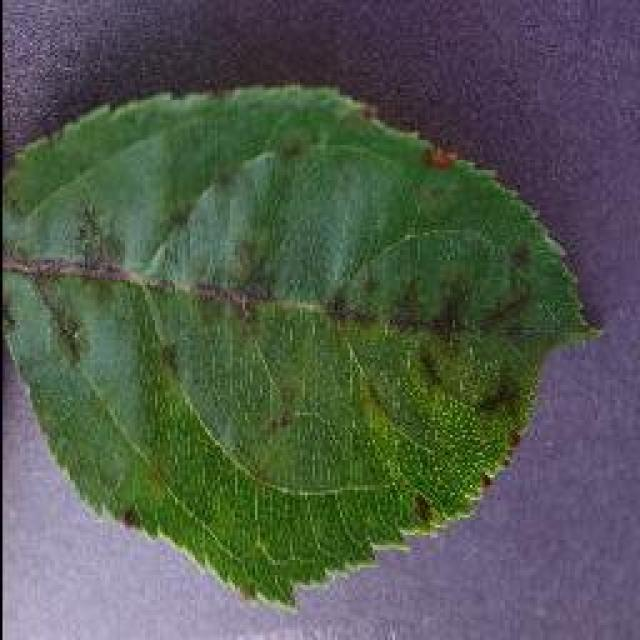apple scab disease: (0, 77, 602, 610)
